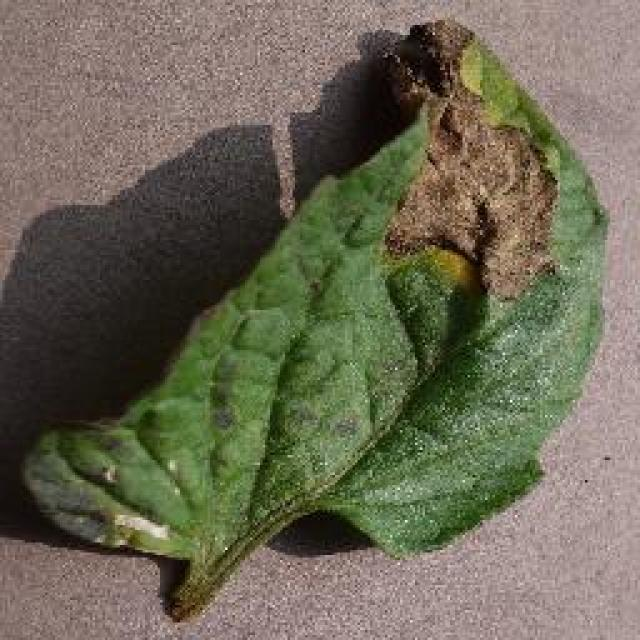Tomato Late Blight: (370, 90, 577, 318)
